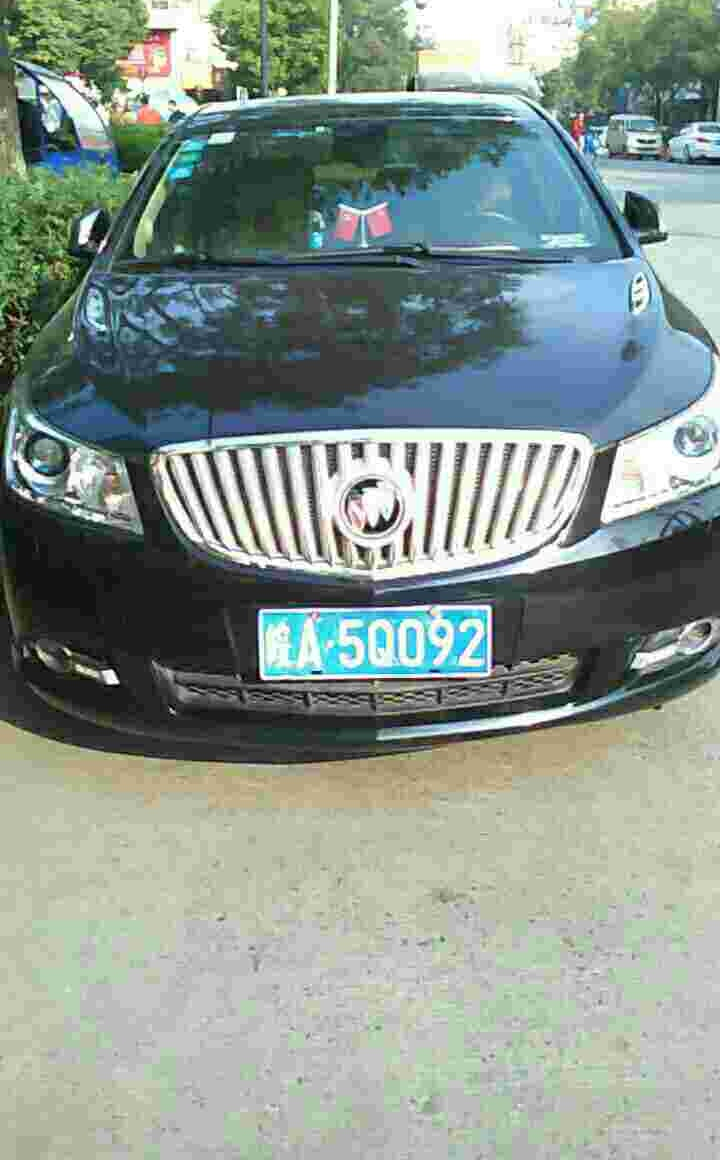license_plate: (266, 608, 487, 682)
